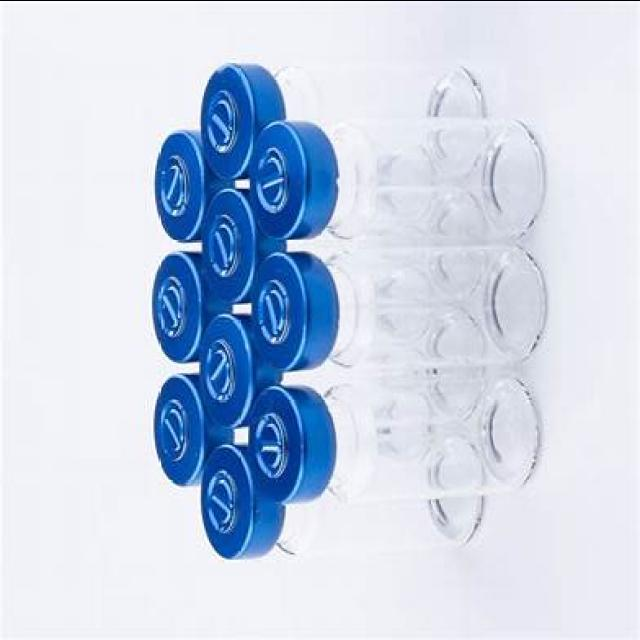vial: (196, 445, 273, 558), (199, 50, 271, 166), (182, 187, 252, 300), (250, 379, 310, 507), (256, 255, 320, 374), (256, 117, 317, 237), (142, 247, 206, 361), (148, 374, 211, 484), (195, 318, 248, 431), (156, 138, 200, 248)
